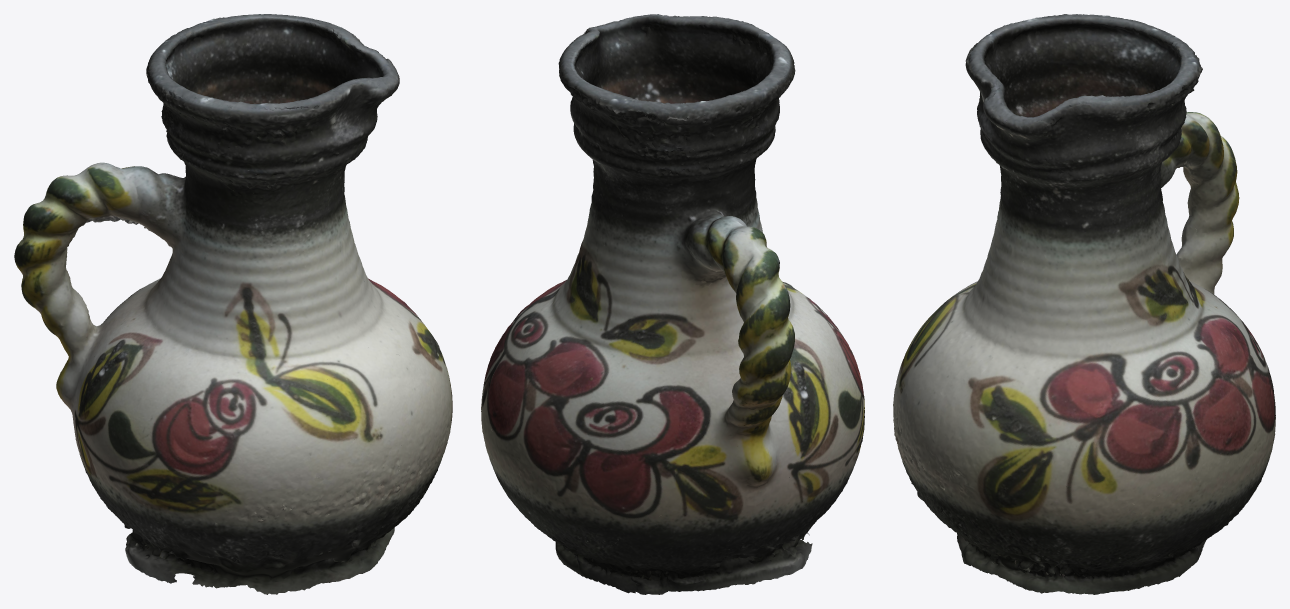
Rendered from obj_old_polish_slavic_jug_5ef856.glb.
3 views of the same model, side by side, from view 1: azimuth 30°, elevation 25°; view 2: azimuth 150°, elevation 25°; view 3: azimuth 270°, elevation 25° (orthographic).
Parts seen in each view (by area): view 1: obj_old_polish_slavic_jug_5ef856; view 2: obj_old_polish_slavic_jug_5ef856; view 3: obj_old_polish_slavic_jug_5ef856.
Boxes of the visible parts, x1,y1,x2,y2 form: obj_old_polish_slavic_jug_5ef856: (14,14,452,594); obj_old_polish_slavic_jug_5ef856: (481,14,864,594); obj_old_polish_slavic_jug_5ef856: (893,14,1275,594).
Size of the model in its own units: 0.2598 by 0.35 by 0.2474.
2 materials, 2 textured.
